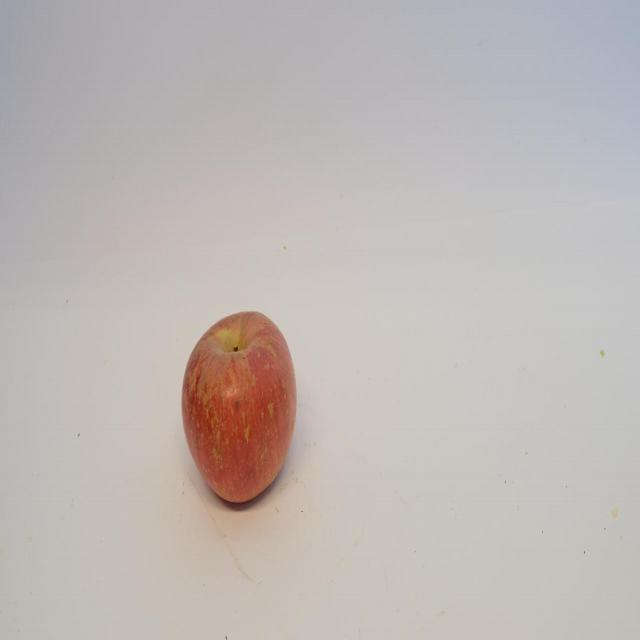apple: (178, 305, 300, 509)
